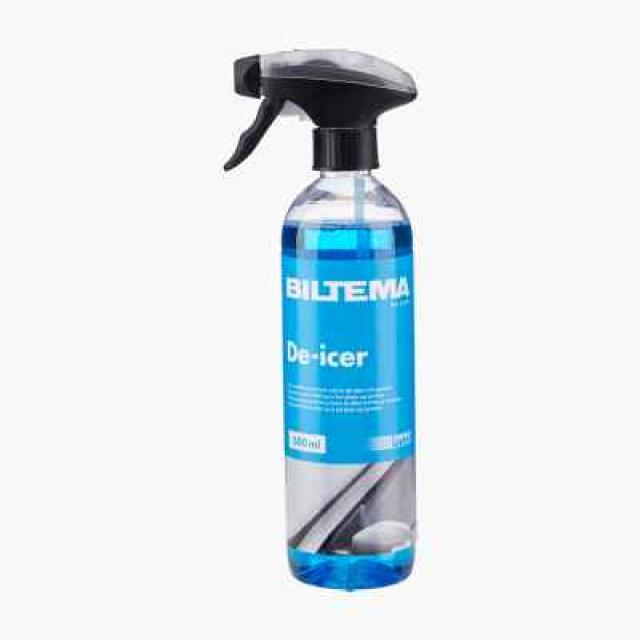winwinshield_washer: (222, 42, 422, 595)
